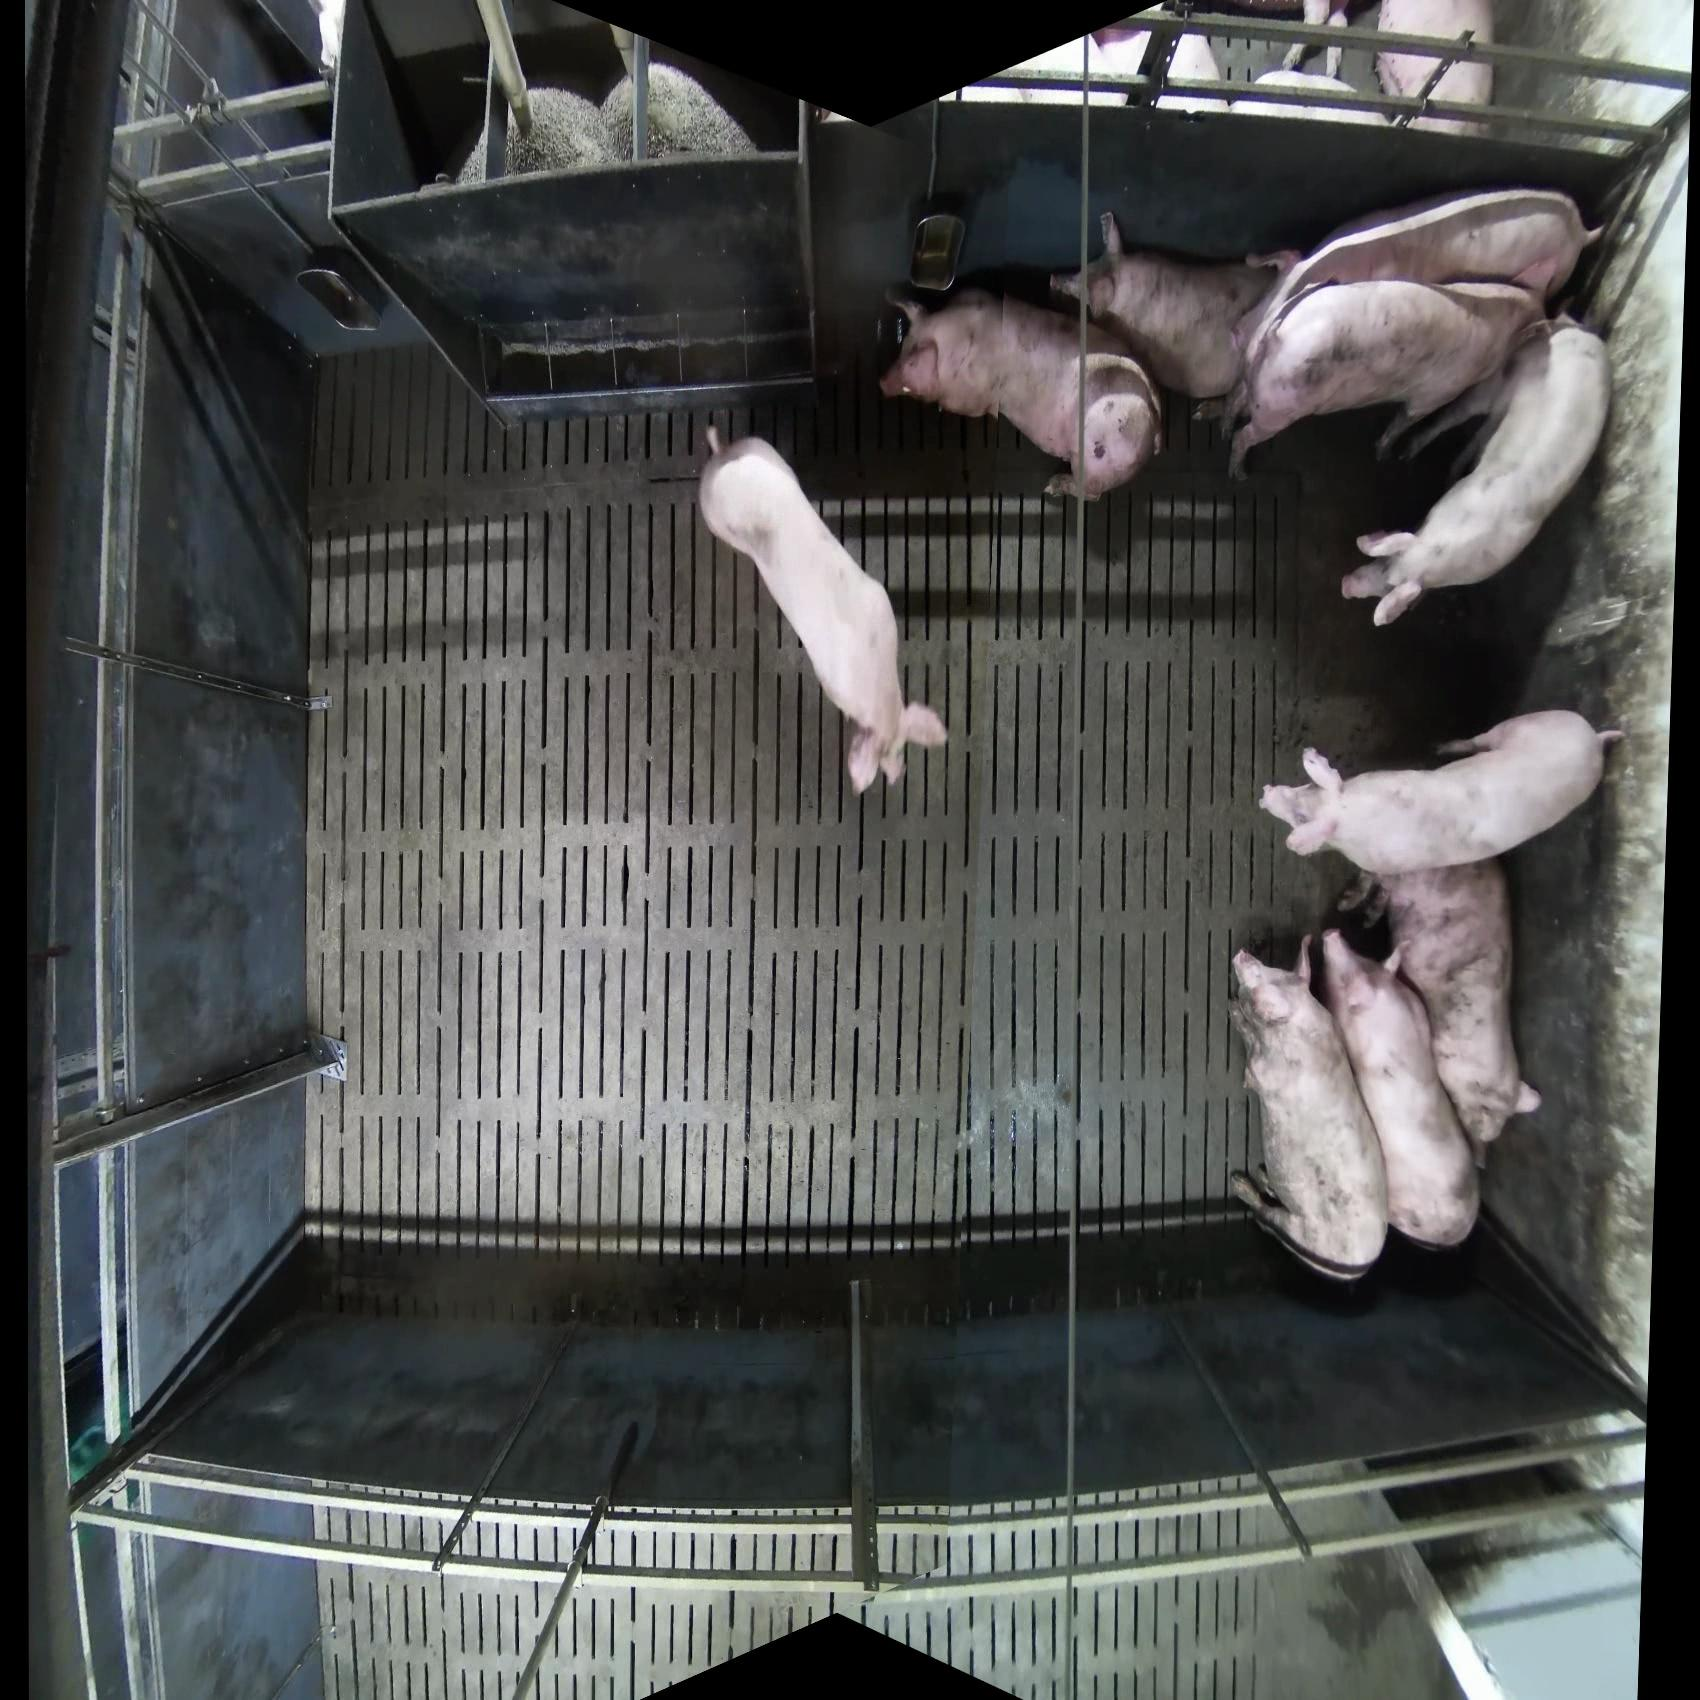pig: (696, 423, 950, 796), (1340, 314, 1614, 629), (1219, 272, 1546, 486), (876, 282, 1164, 504), (1259, 707, 1627, 876), (1339, 856, 1543, 1157), (1227, 939, 1392, 1283), (1319, 928, 1484, 1252), (1049, 209, 1303, 409), (1277, 185, 1605, 321), (1375, 2, 1498, 137), (1090, 23, 1228, 114), (1281, 2, 1356, 87)
